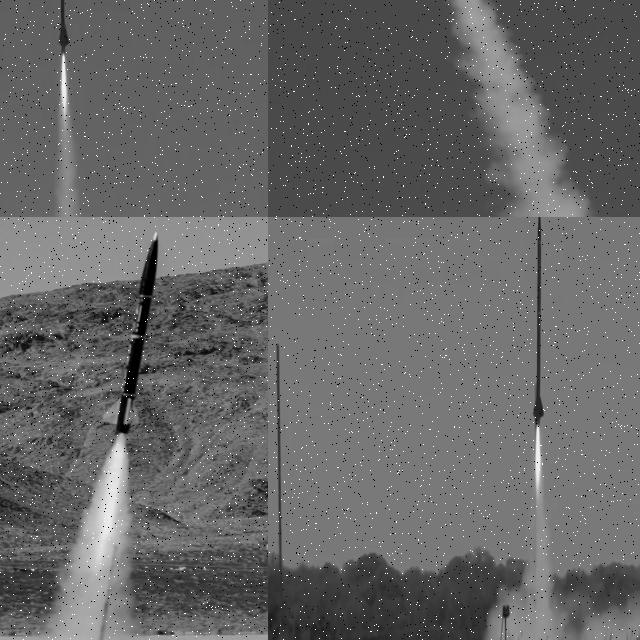Rocket: (103, 232, 160, 436), (532, 217, 545, 422), (57, 0, 70, 60)
